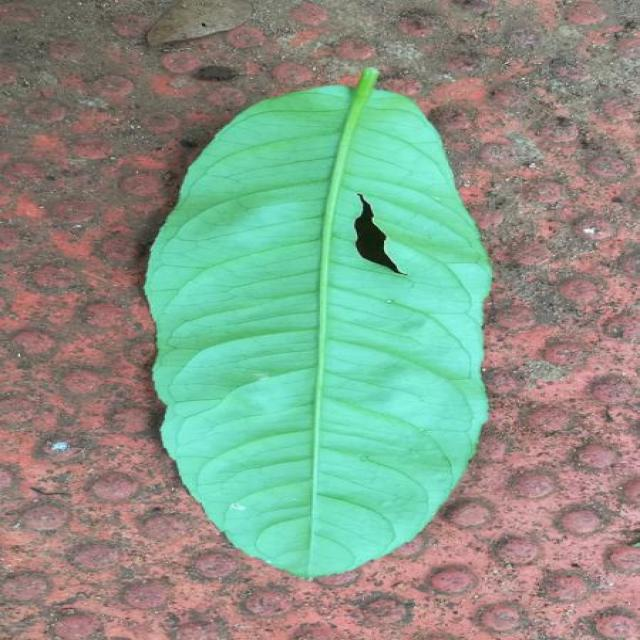badipala: (145, 69, 492, 577), (310, 105, 360, 513)
